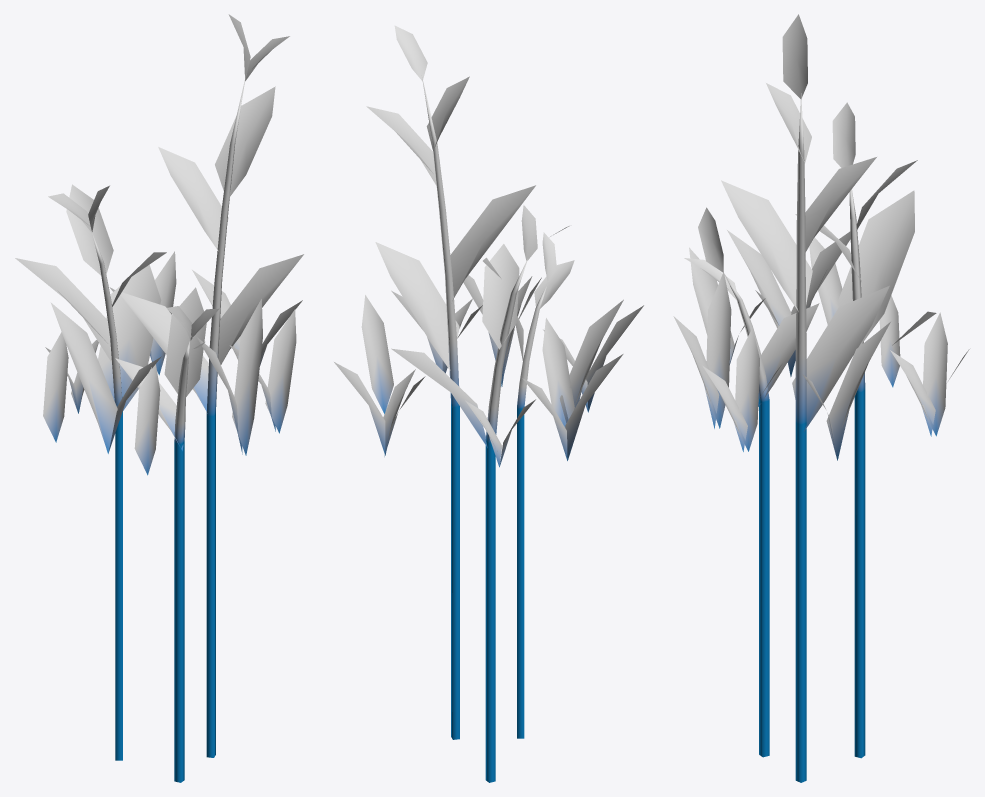
The model's file is reeds.glb.
The picture shows the model from 3 angles, left to right: view 1: azimuth 30°, elevation 25°; view 2: azimuth 150°, elevation 25°; view 3: azimuth 270°, elevation 25°; orthographic projection. The views are drawn at different scales.
Visible parts, largest first — view 1: reeds; view 2: reeds; view 3: reeds.
Boxes of the visible parts, <box> form: reeds: <box>15,14,303,782</box>; reeds: <box>334,25,643,782</box>; reeds: <box>673,14,969,782</box>.
Bounding box in the file's own units: 1.27 × 3.37 × 1.16.
